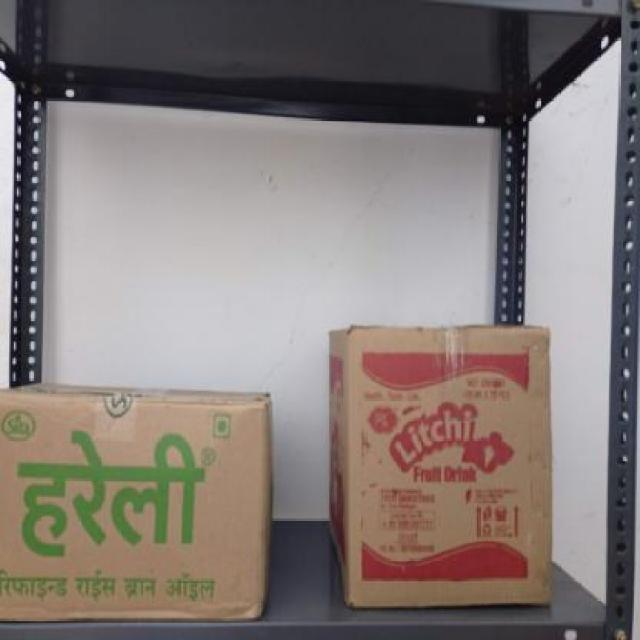box: (1, 392, 266, 620), (346, 325, 552, 613)
